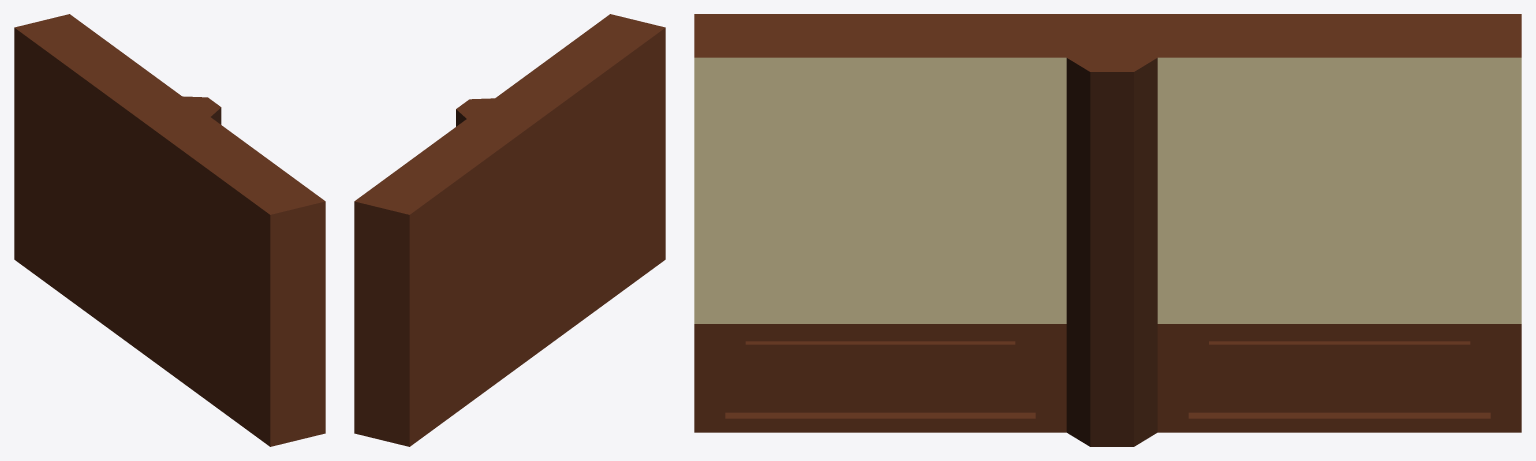
The model's file is wall01.fbx.
3 views of the same model, side by side, from view 1: azimuth 30°, elevation 25°; view 2: azimuth 150°, elevation 25°; view 3: azimuth 270°, elevation 25° (orthographic). The views are drawn at different scales.
Visible parts, largest first — view 1: Cube.001; view 2: Cube.001; view 3: Cube.001.
Part boxes in pixels (box(x1,y1,x2,y2)): Cube.001: box(14, 14, 325, 446); Cube.001: box(354, 14, 665, 446); Cube.001: box(694, 14, 1521, 446).
Size of the model in its own units: 133 by 400 by 800.
